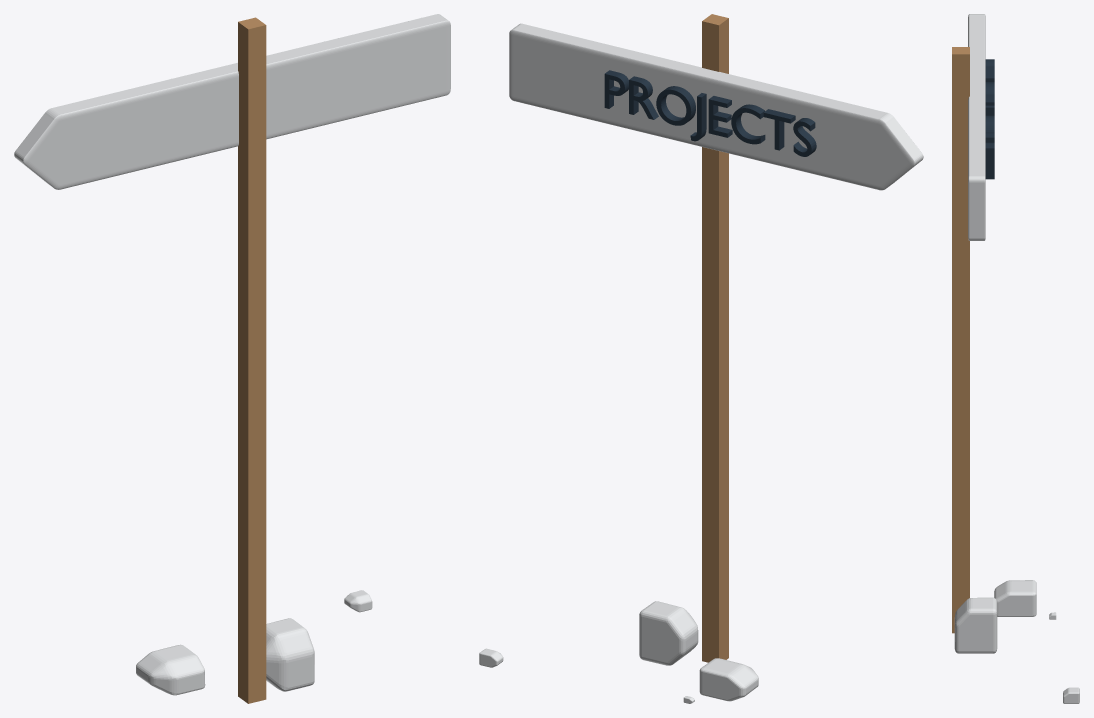
The model's file is signProjects.glb.
3 renders of one model, left to right at view 1: azimuth 30°, elevation 25°; view 2: azimuth 150°, elevation 25°; view 3: azimuth 270°, elevation 25°, orthographic. The views are drawn at different scales.
Visible parts, largest first — view 1: Cube.001, Cube, Cube.003, Cube.002; view 2: Cube.001, Cube, Text.002, Cube.003, Cube.002; view 3: Cube, Cube.001, Cube.003, Cube.002, Text.002, Cube.004.
Boxes of the visible parts, x1,y1,x2,y2 form: Cube.001: (14,14,450,189); Cube: (238,17,266,703); Cube.003: (266,618,314,691); Cube.002: (136,644,205,695); Cube.001: (509,23,923,190); Cube: (702,14,728,662); Text.002: (604,70,816,156); Cube.003: (639,601,698,665); Cube.002: (699,658,758,701); Cube: (952,47,969,633); Cube.001: (968,14,985,240); Cube.003: (954,597,997,653); Cube.002: (994,580,1036,616); Text.002: (985,59,994,179); Cube.004: (1063,687,1079,703).
Size of the model in its own units: 11.94 by 18.01 by 3.6.
